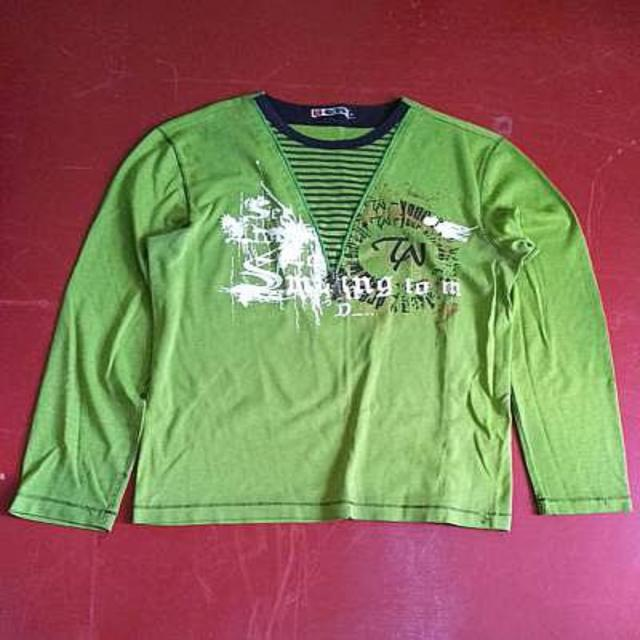SHIRT: (7, 78, 640, 540)
